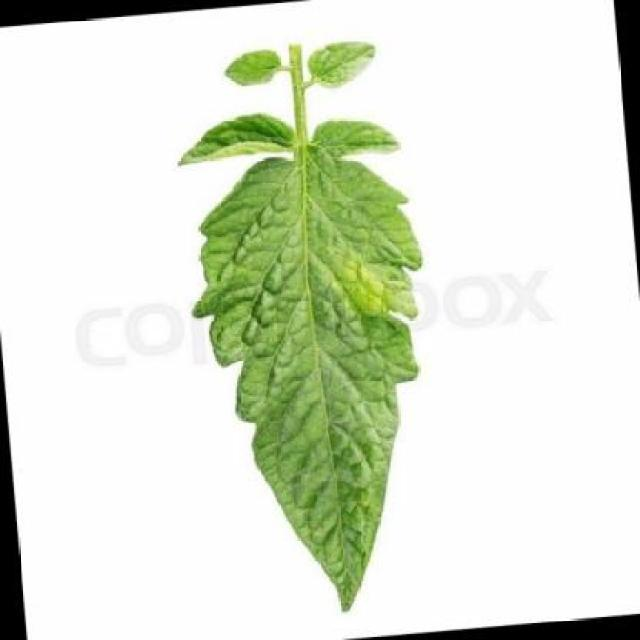Healthy Leaf: (173, 25, 444, 637)
